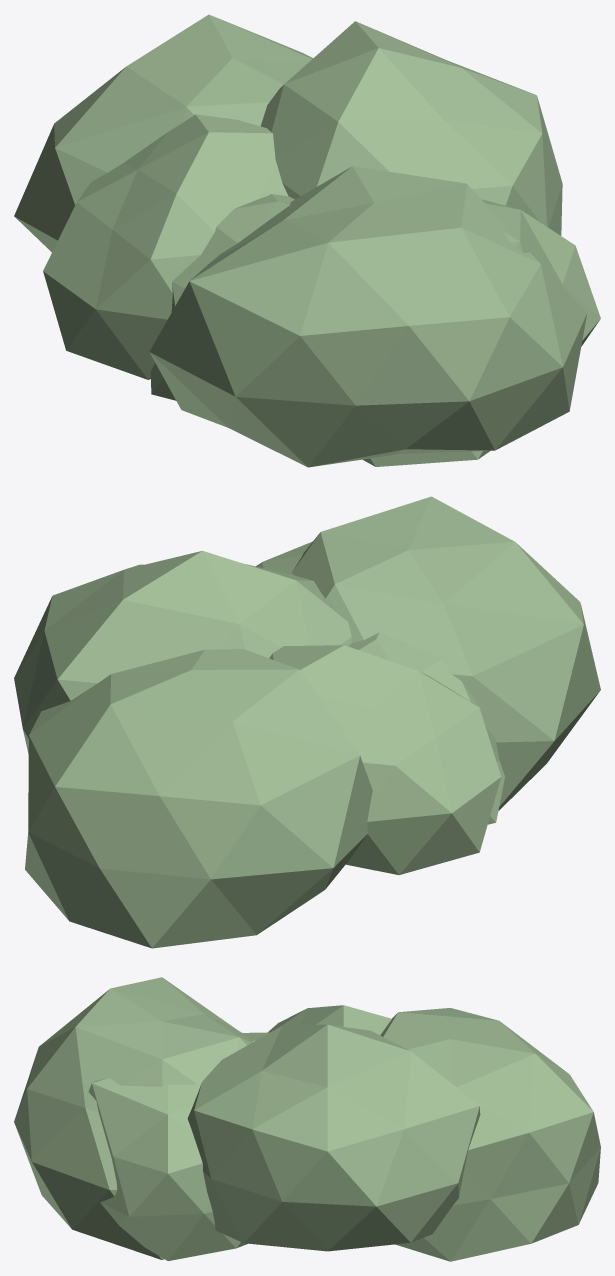
The model's file is isl_shrub_c.fbx.
The picture shows the model from 3 angles, top to bottom: view 1: azimuth 30°, elevation 25°; view 2: azimuth 150°, elevation 25°; view 3: azimuth 270°, elevation 25°; orthographic projection. The views are drawn at different scales.
Visible parts, largest first — view 1: isl_shrub_c; view 2: isl_shrub_c; view 3: isl_shrub_c.
Boxes of the visible parts, bbox=[...] form: isl_shrub_c: bbox=[14, 14, 600, 467]; isl_shrub_c: bbox=[14, 496, 600, 948]; isl_shrub_c: bbox=[14, 977, 600, 1261].
Bounding box in the file's own units: 0.6938 × 0.384 × 0.9642.
